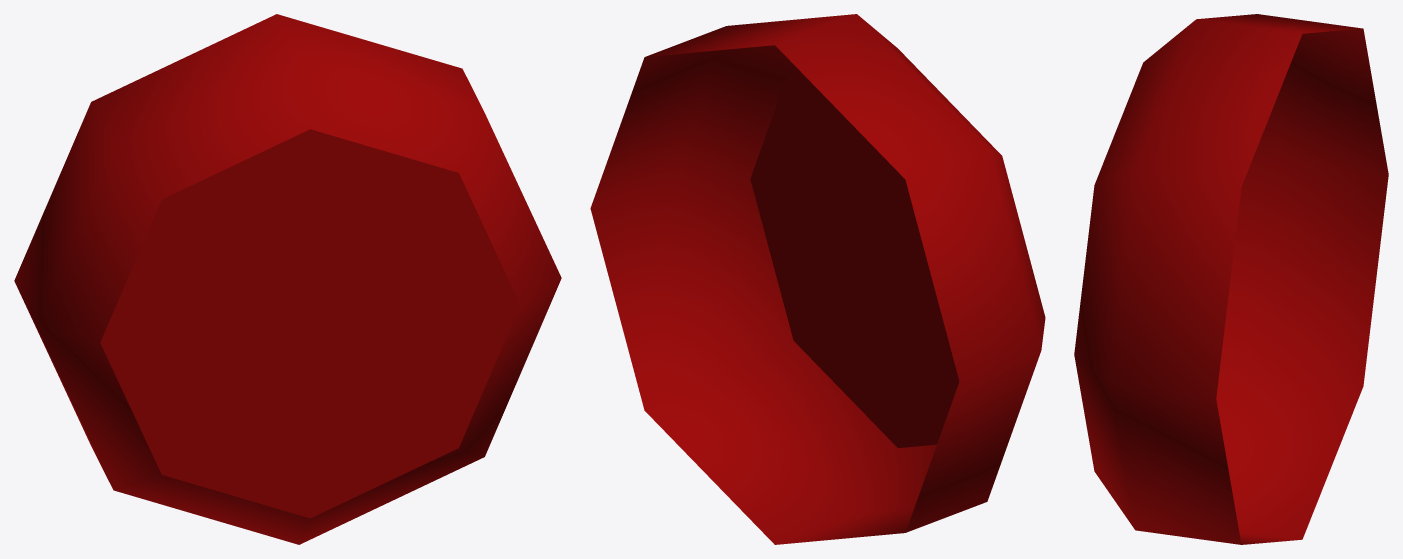
The model's file is original-11.obj.
The picture shows the model from 3 angles, left to right: view 1: azimuth 30°, elevation 25°; view 2: azimuth 150°, elevation 25°; view 3: azimuth 270°, elevation 25°; orthographic projection. The views are drawn at different scales.
Parts seen in each view (by area): view 1: mesh2/mesh2-geometry#mesh2-geometry; view 2: mesh2/mesh2-geometry#mesh2-geometry; view 3: mesh2/mesh2-geometry#mesh2-geometry.
Boxes of the visible parts, <box> form: mesh2/mesh2-geometry#mesh2-geometry: <box>14,14,561,544</box>; mesh2/mesh2-geometry#mesh2-geometry: <box>590,14,1045,544</box>; mesh2/mesh2-geometry#mesh2-geometry: <box>1074,14,1388,544</box>.
Size of the model in its own units: 0.0853 by 0.0842 by 0.0474.
